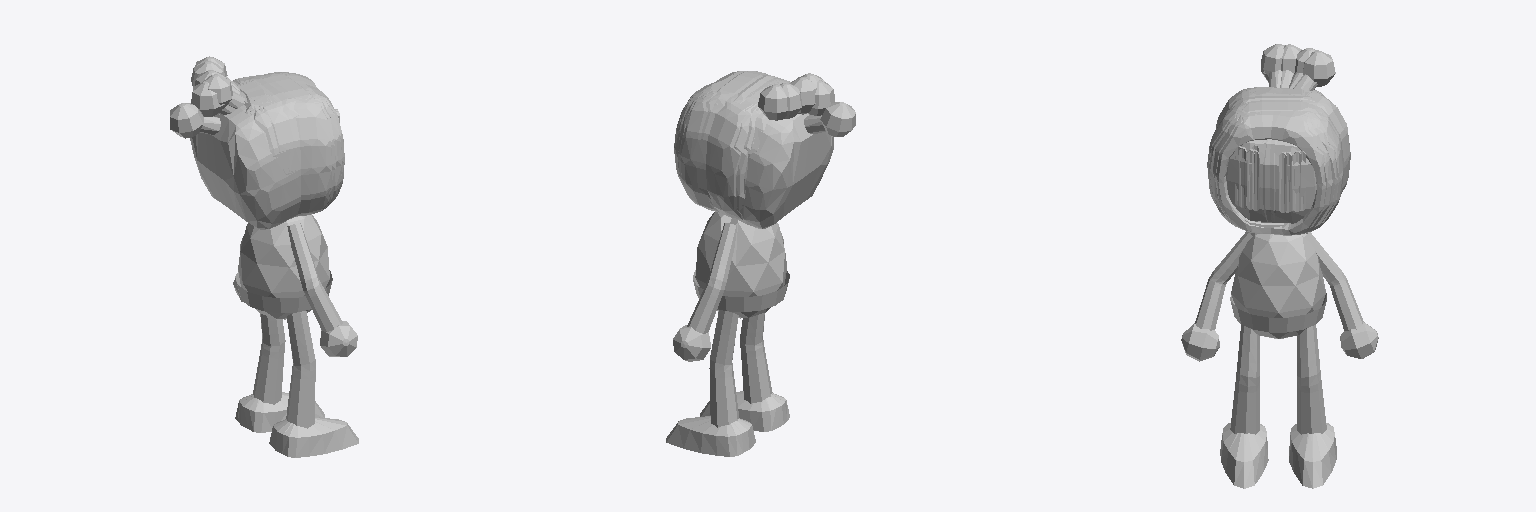
The model's file is BomberManAnimIdle.obj.
3 views of the same model, side by side, from view 1: azimuth 30°, elevation 25°; view 2: azimuth 150°, elevation 25°; view 3: azimuth 270°, elevation 25° (orthographic).
Visible parts, largest first — view 1: BombermanIdle00, BombermanIdle06, BombermanIdle02, BombermanIdle05, BombermanIdle01, BombermanIdle03; view 2: BombermanIdle00, BombermanIdle06, BombermanIdle02, BombermanIdle05, BombermanIdle03, BombermanIdle01; view 3: BombermanIdle00, BombermanIdle02, BombermanIdle01, BombermanIdle03, BombermanIdle05.
Part boxes in pixels (x1,y1,x2,y2): BombermanIdle00: (203, 72, 358, 457); BombermanIdle06: (170, 76, 300, 229); BombermanIdle02: (195, 56, 331, 216); BombermanIdle05: (191, 72, 311, 179); BombermanIdle01: (195, 70, 341, 204); BombermanIdle03: (191, 61, 338, 208); BombermanIdle00: (666, 71, 825, 456); BombermanIdle06: (733, 75, 855, 228); BombermanIdle02: (674, 71, 787, 219); BombermanIdle05: (701, 71, 834, 156); BombermanIdle03: (675, 71, 802, 214); BombermanIdle01: (678, 71, 816, 206); BombermanIdle00: (1181, 44, 1378, 488); BombermanIdle02: (1207, 50, 1350, 235); BombermanIdle01: (1213, 44, 1337, 232); BombermanIdle03: (1209, 48, 1335, 235); BombermanIdle05: (1217, 72, 1340, 227).
Bounding box in the file's own units: 0.4672 × 0.9988 × 0.4677.